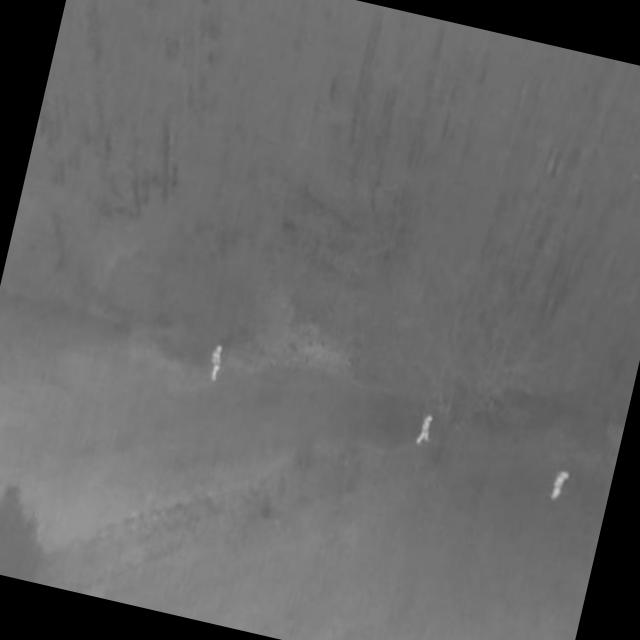person: (547, 468, 572, 505), (206, 343, 227, 382), (414, 412, 435, 448)
